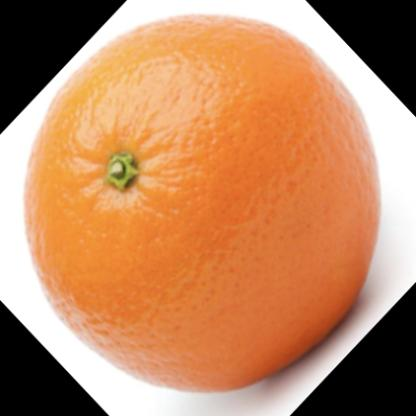fresh: (23, 13, 383, 396)
